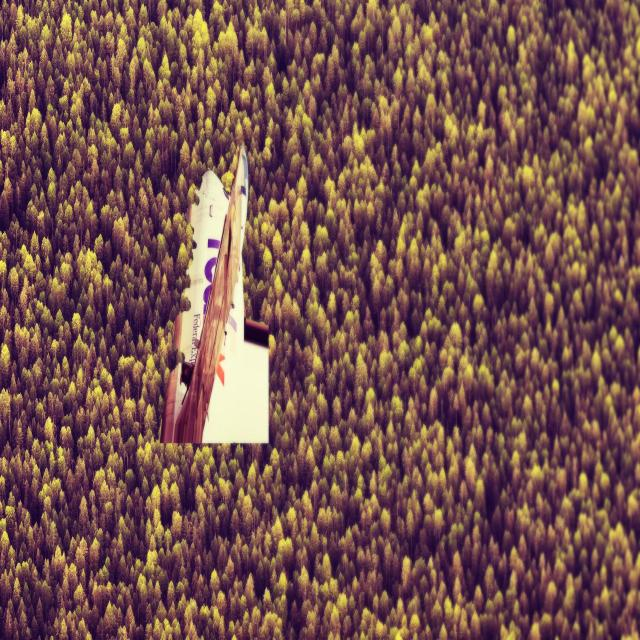airplane: (159, 144, 269, 446)
